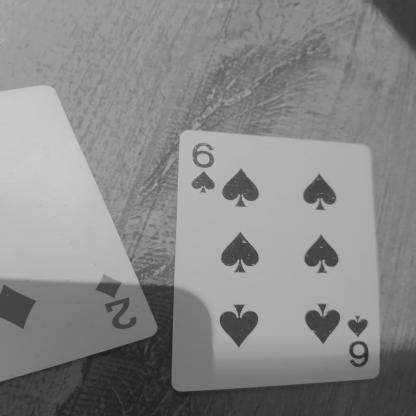2D: (94, 265, 148, 336)
6S: (174, 142, 224, 200)
